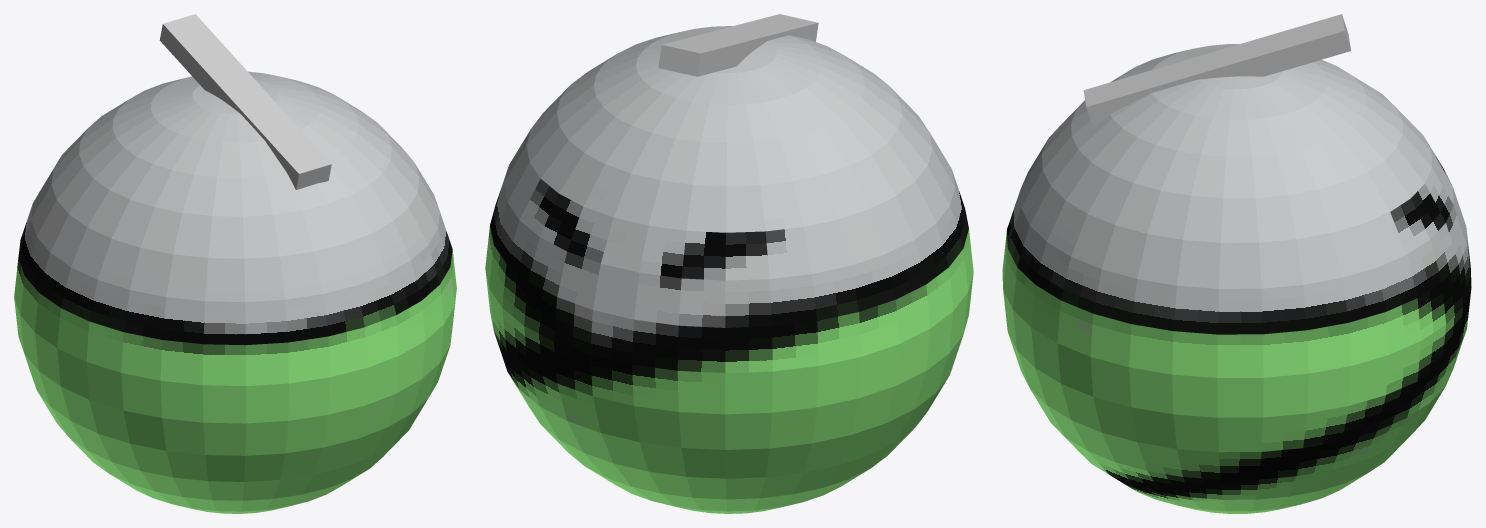
The model's file is enemy.obj.
The picture shows the model from 3 angles, left to right: view 1: azimuth 30°, elevation 25°; view 2: azimuth 150°, elevation 25°; view 3: azimuth 270°, elevation 25°; orthographic projection. The views are drawn at different scales.
Visible parts, largest first — view 1: 球, 立方体; view 2: 球, 立方体; view 3: 球, 立方体.
Part boxes in pixels (x1,y1,x2,y2): 球: [14, 71, 456, 513]; 立方体: [159, 14, 331, 189]; 球: [485, 26, 973, 513]; 立方体: [658, 14, 818, 76]; 球: [1002, 44, 1471, 513]; 立方体: [1083, 14, 1350, 126].
Size of the model in its own units: 1.99 by 2.19 by 1.99.
2 materials, 1 textured.
